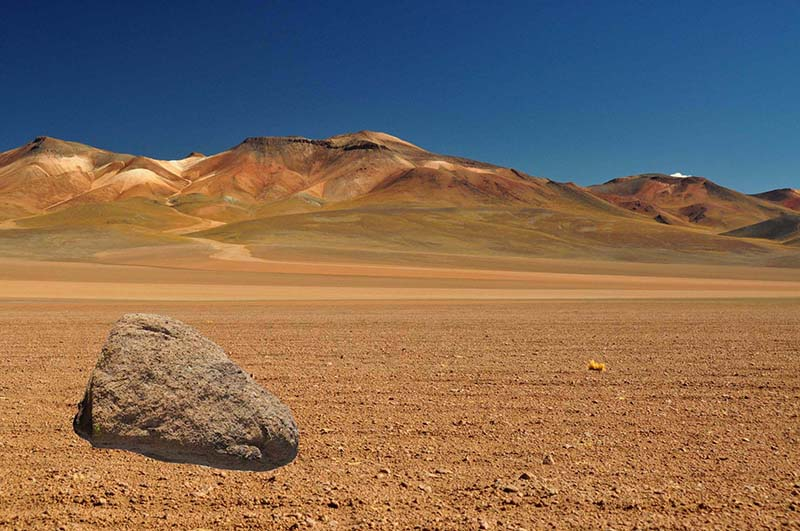Rocks: (60, 309, 314, 477)
